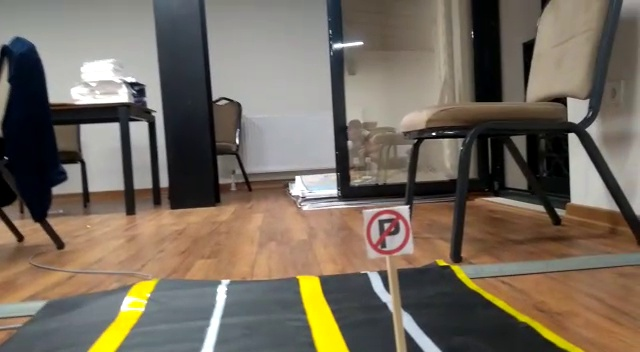park_yapilmaz: (361, 209, 412, 255)
